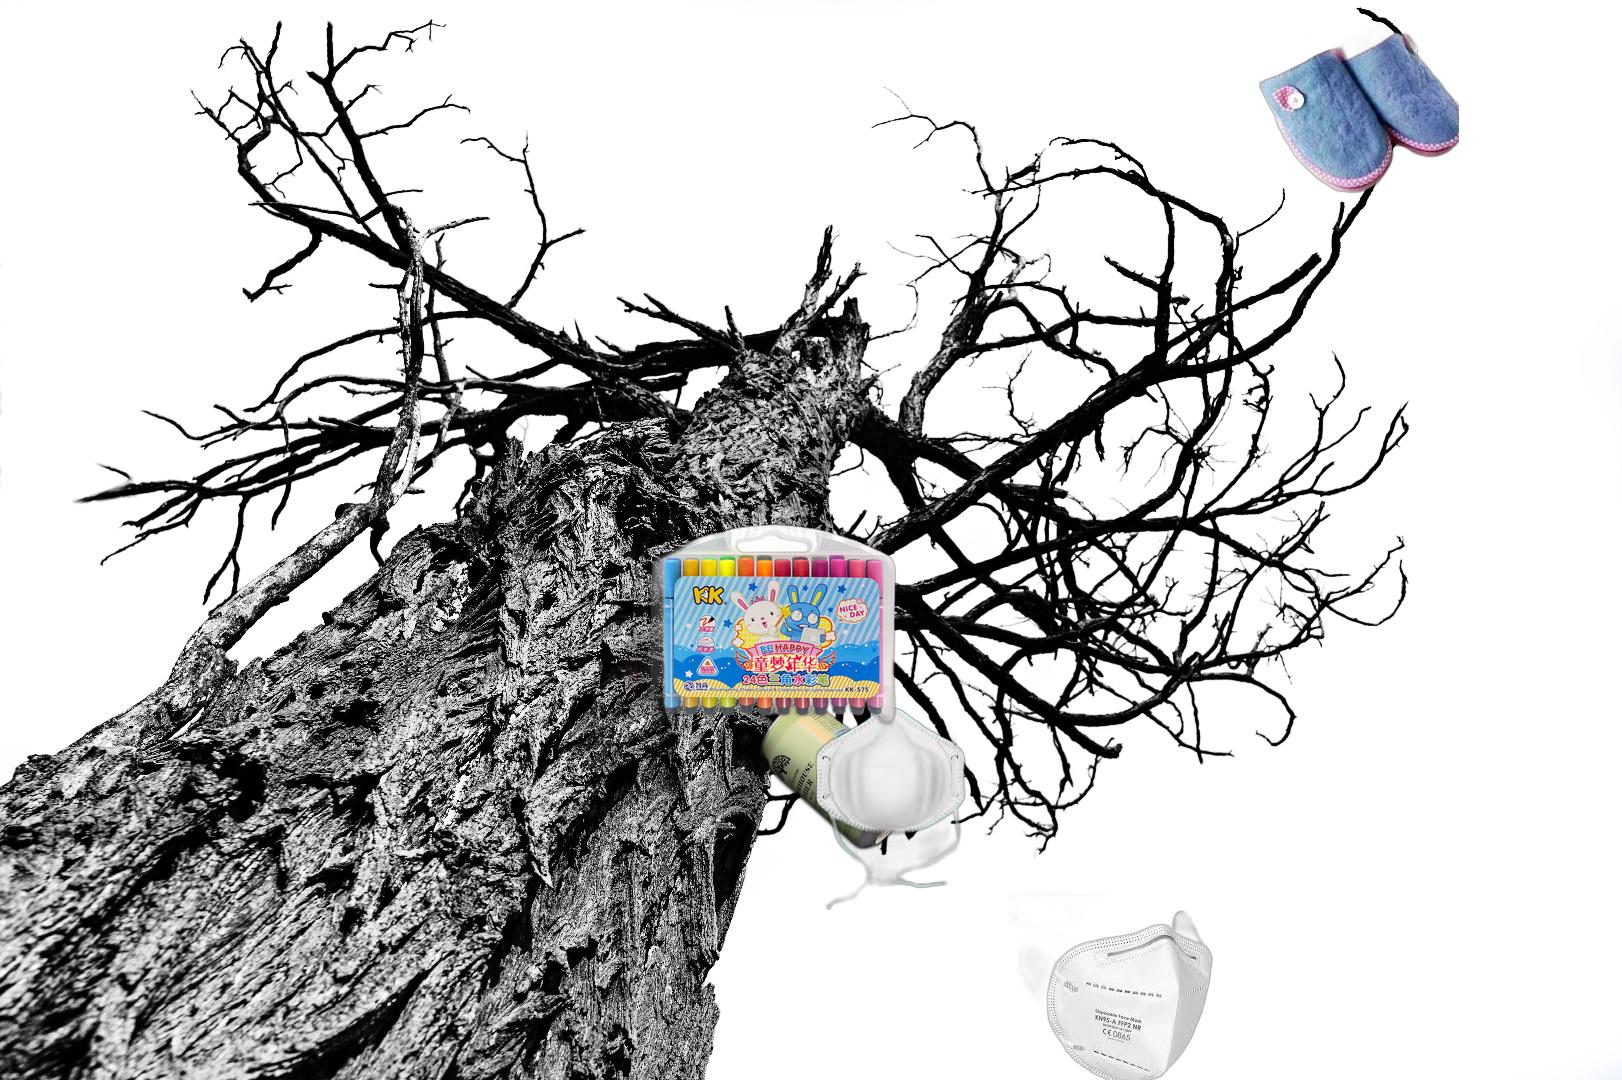metal-cans: (756, 697, 921, 855)
penholder: (603, 521, 899, 729)
shoes: (1259, 14, 1459, 196)
trash: (991, 893, 1215, 1080), (784, 705, 979, 910)
